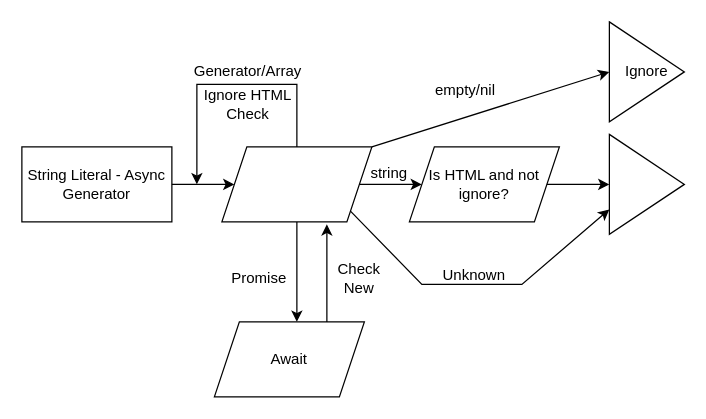
Some shapes in this 706 by 419 pixel diagram are drawn without their labels. The shapes that lost their labels are listed below. From the top down, each one's centre as x and y in pixels, then its label:
point (296, 184): Type Checker
point (646, 183): Yield
